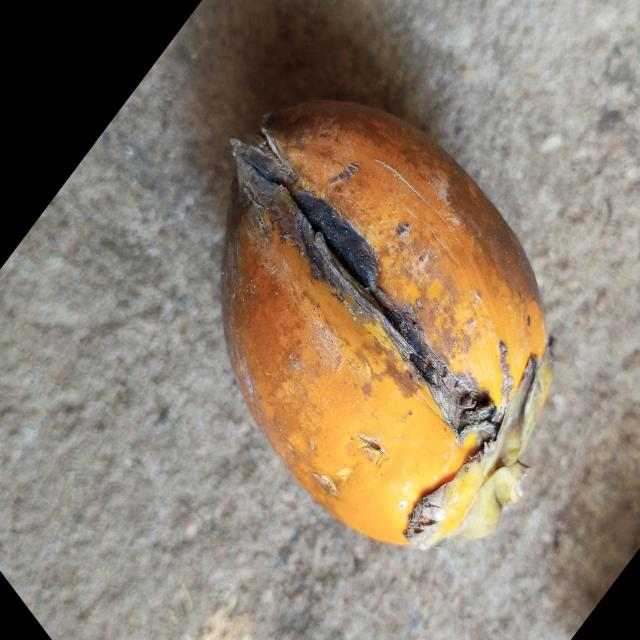damaged: (223, 101, 553, 549)
